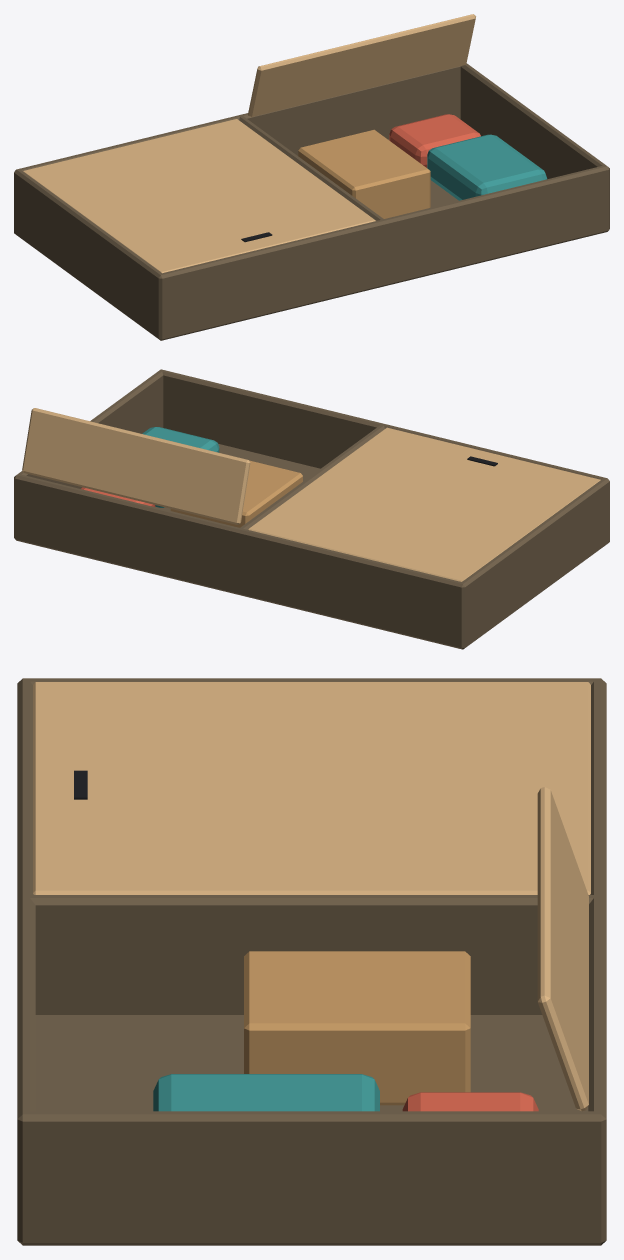
Rendered from floor_hatch_storage.glb.
The picture shows the model from 3 angles, top to bottom: view 1: azimuth 30°, elevation 25°; view 2: azimuth 150°, elevation 25°; view 3: azimuth 270°, elevation 25°; orthographic projection. The views are drawn at different scales.
Parts seen in each view (by area): view 1: floor_hatch_storage_Body; view 2: floor_hatch_storage_Body; view 3: floor_hatch_storage_Body.
Boxes of the visible parts, x1,y1,x2,y2 form: floor_hatch_storage_Body: (14, 14, 609, 340); floor_hatch_storage_Body: (14, 369, 609, 649); floor_hatch_storage_Body: (17, 678, 606, 1245).
Size of the model in its own units: 2.3 by 0.6 by 1.3.
